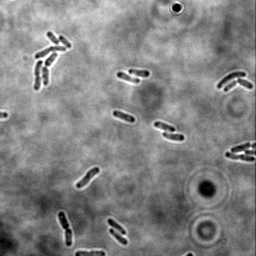Dividing: (56, 210, 74, 247), (73, 248, 106, 256)
Microcolony: (32, 30, 72, 92)
Rod: (216, 70, 248, 90), (75, 166, 100, 189), (109, 227, 129, 246), (116, 70, 141, 85), (112, 109, 137, 124), (107, 218, 128, 235), (153, 120, 176, 133), (230, 141, 252, 154), (161, 132, 186, 142), (128, 68, 152, 78), (236, 77, 254, 90), (223, 78, 238, 93)
